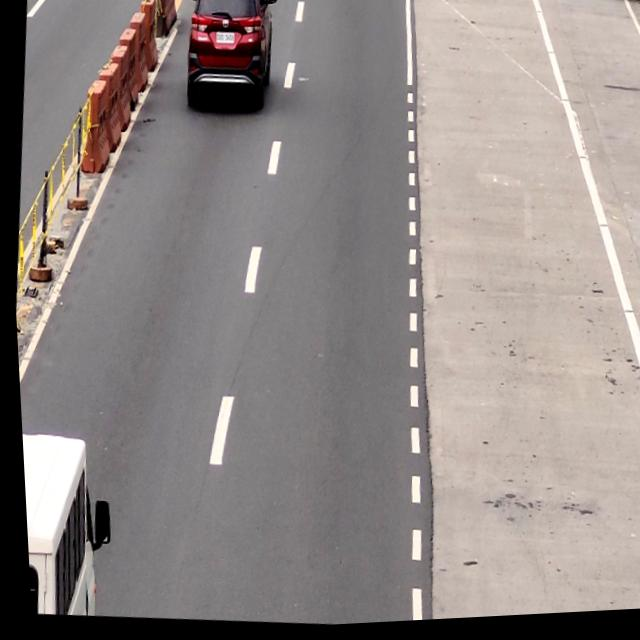Car: (176, 0, 277, 118)
License-Plate: (214, 32, 235, 48)
